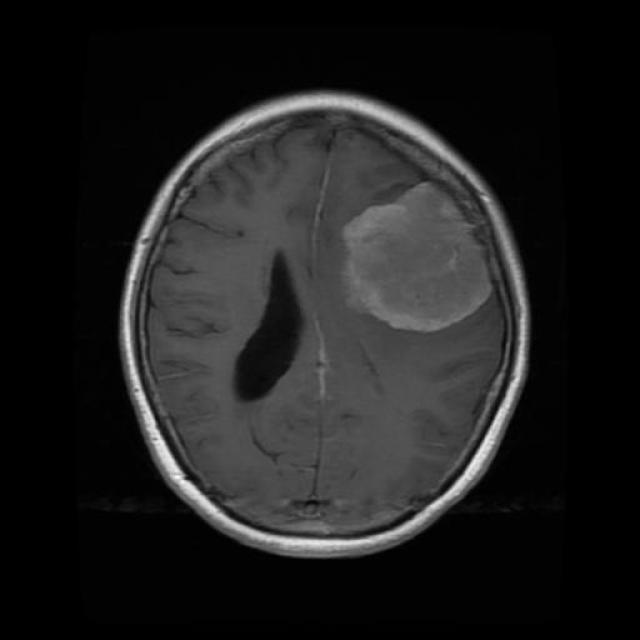Meningioma: (340, 182, 490, 332)
